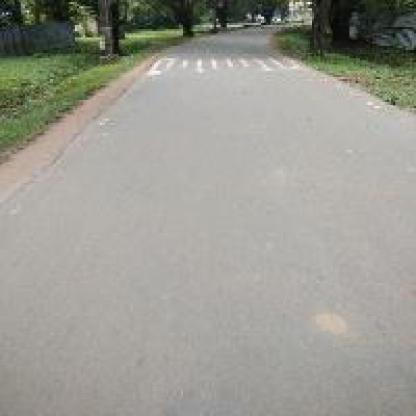Speed Bump: (150, 55, 302, 76)
